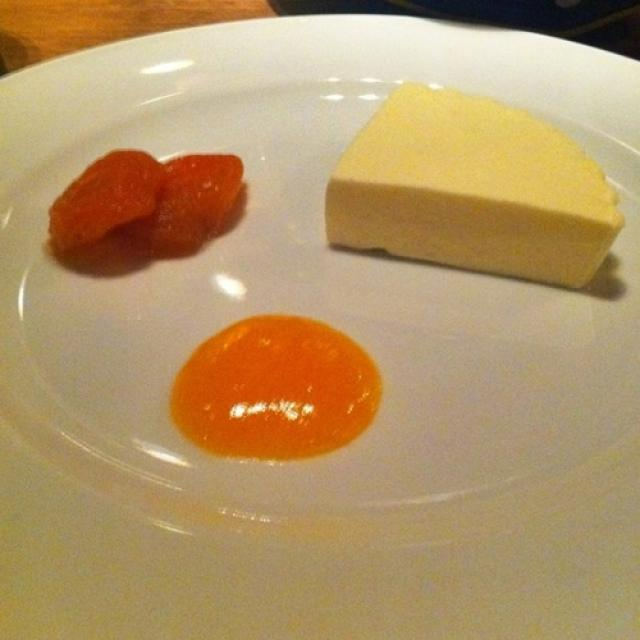Rare cheese cake: (295, 56, 640, 354)
